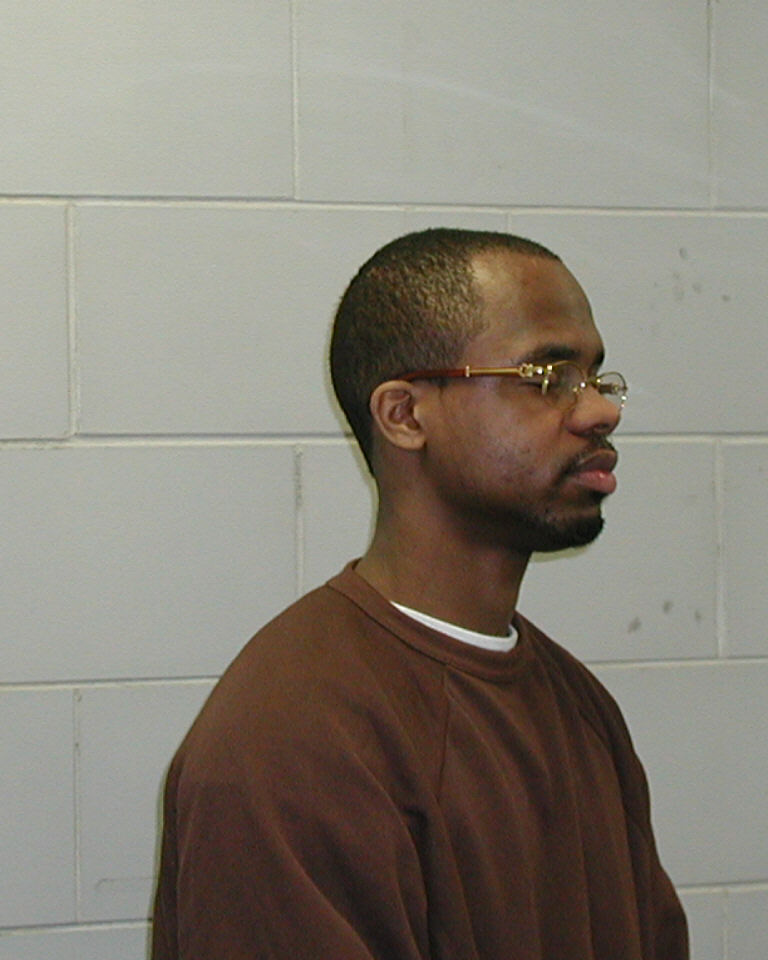face: (329, 230, 631, 558)
